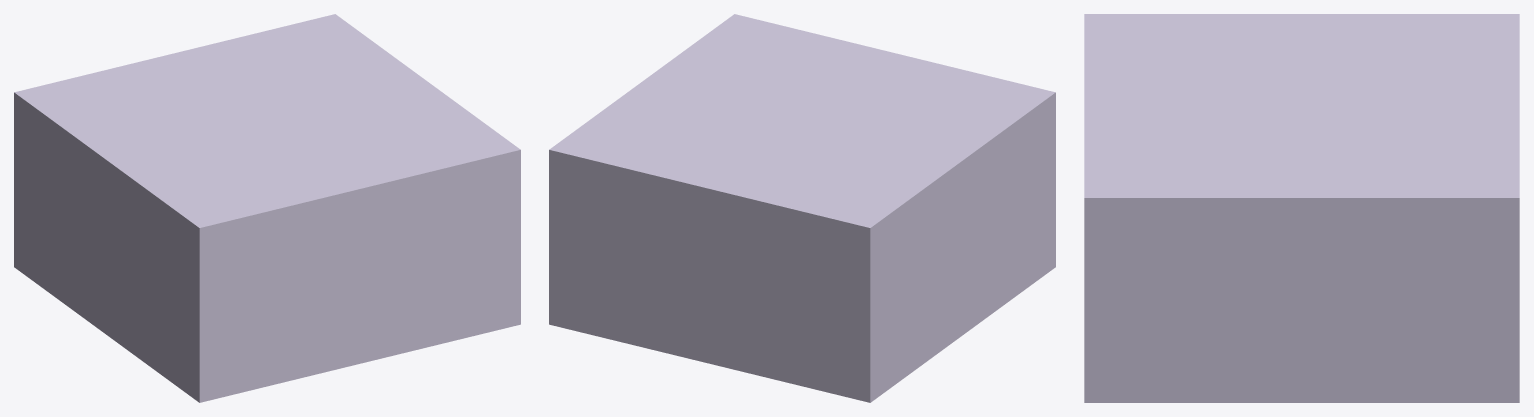
Rendered from ballpit.glb.
3 renders of one model, left to right at view 1: azimuth 30°, elevation 25°; view 2: azimuth 150°, elevation 25°; view 3: azimuth 270°, elevation 25°, orthographic. The views are drawn at different scales.
Parts seen in each view (by area): view 1: Walls And Ceiling; view 2: Walls And Ceiling; view 3: Walls And Ceiling.
Boxes of the visible parts, x1=… form: Walls And Ceiling: x1=14, y1=14, x2=520, y2=402; Walls And Ceiling: x1=549, y1=14, x2=1055, y2=402; Walls And Ceiling: x1=1084, y1=14, x2=1519, y2=402.
Size of the model in its own units: 100 by 53.64 by 100.
